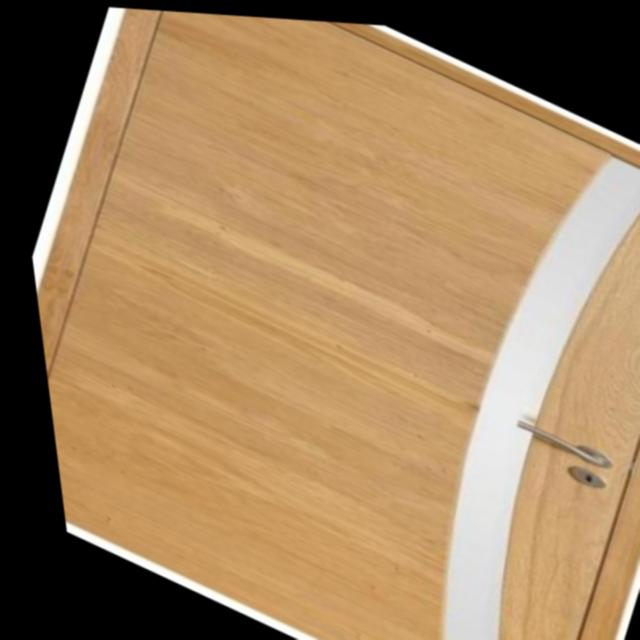door_handle: (499, 406, 603, 468)
